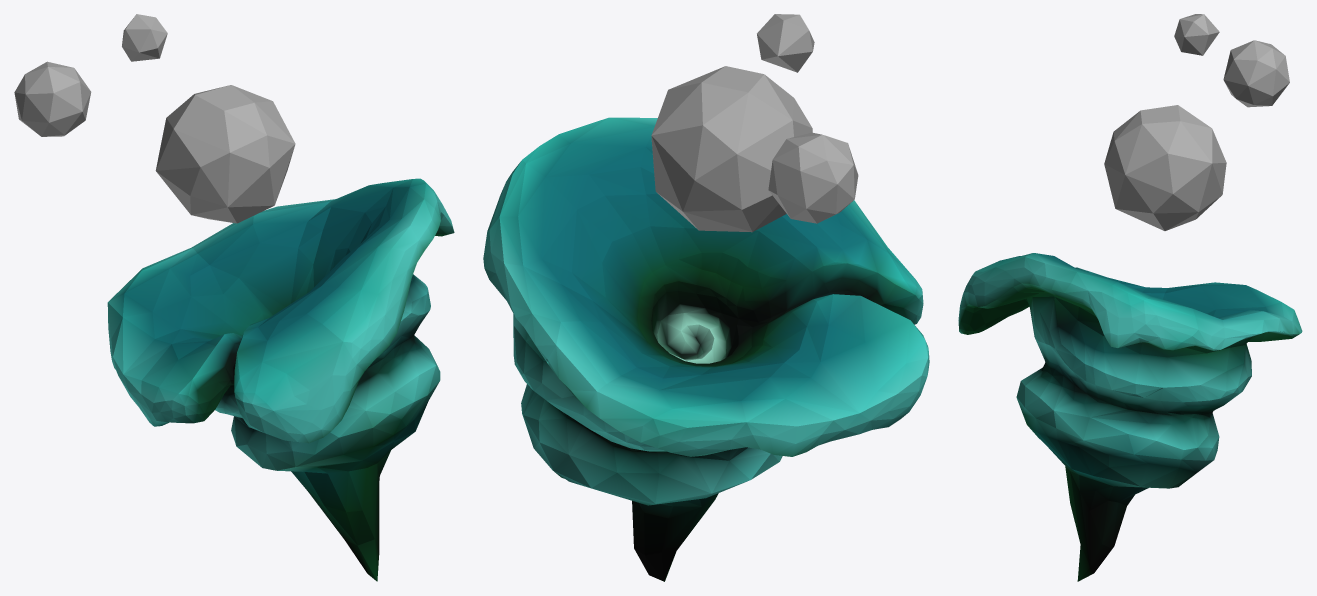
The model's file is SM_Flower02fix.fbx.
The picture shows the model from 3 angles, left to right: view 1: azimuth 30°, elevation 25°; view 2: azimuth 150°, elevation 25°; view 3: azimuth 270°, elevation 25°; orthographic projection. The views are drawn at different scales.
Parts seen in each view (by area): view 1: PM3D_Cylinder3D_4, PM3D_Cylinder3D_4_copy1; view 2: PM3D_Cylinder3D_4, PM3D_Cylinder3D_4_copy1; view 3: PM3D_Cylinder3D_4, PM3D_Cylinder3D_4_copy1.
Part boxes in pixels (box(x1,y1,x2,y2)): PM3D_Cylinder3D_4: box(107, 178, 454, 581); PM3D_Cylinder3D_4_copy1: box(14, 14, 295, 223); PM3D_Cylinder3D_4: box(483, 117, 929, 581); PM3D_Cylinder3D_4_copy1: box(651, 14, 858, 232); PM3D_Cylinder3D_4: box(958, 253, 1302, 581); PM3D_Cylinder3D_4_copy1: box(1104, 14, 1289, 230).
Size of the model in its own units: 0.0153 by 0.0231 by 0.0146.
